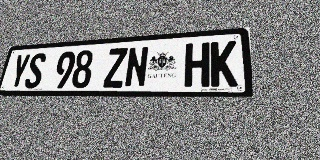8: (71, 50, 95, 88)
9: (53, 51, 77, 88)
H: (184, 42, 210, 87)
K: (210, 40, 238, 87)
N: (124, 46, 149, 88)
S: (23, 53, 47, 88)
Y: (8, 54, 31, 89)
Z: (103, 48, 128, 88)
